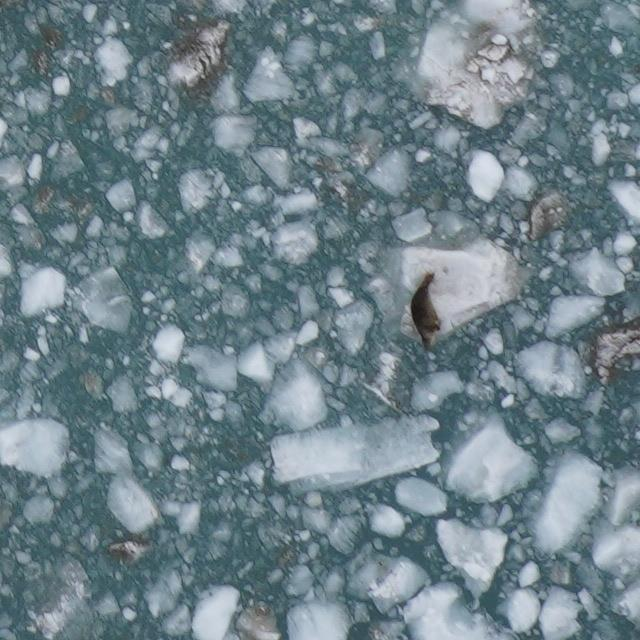seal: (408, 270, 444, 356)
